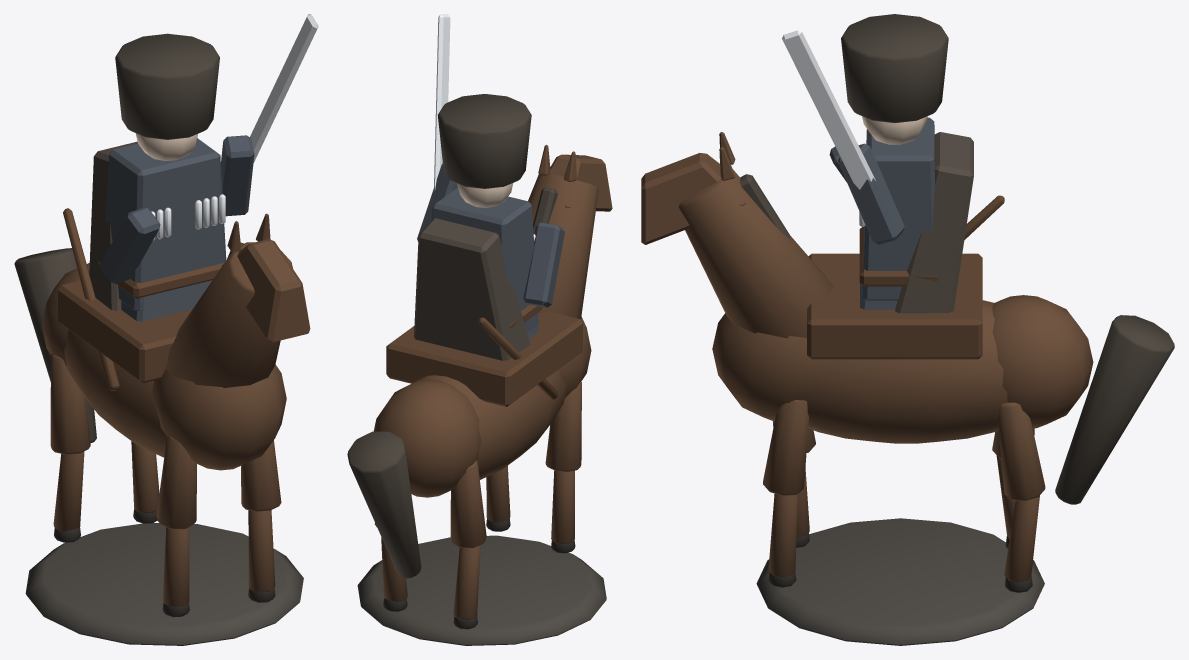
File: Cavalry_Naib.glb
3 views of the same model, side by side, from view 1: azimuth 30°, elevation 25°; view 2: azimuth 150°, elevation 25°; view 3: azimuth 270°, elevation 25° (orthographic). The views are drawn at different scales.
Visible parts, largest first — view 1: Pedestal, RiderTorso, HorseChest, RiderPapakha, HorseNeck, SaddleCloth, HorseBarrel, HorseHead, HorseTail, LegU_BL, LegU_FL, BurkaCape (+13 smaller); view 2: Pedestal, BurkaCape, SaddleCloth, HorseCroup, RiderPapakha, HorseTail, HorseBarrel, HorseNeck, RiderTorso, LegU_BL, ArmLeft, LegU_FL (+11 smaller); view 3: Pedestal, HorseBarrel, HorseNeck, SaddleCloth, RiderPapakha, HorseCroup, HorseTail, BurkaCape, HorseChest, RiderTorso, HorseHead, ShashkaBlade (+8 smaller).
Part boxes in pixels (x1,y1,x2,y2): Pedestal: (25,523,303,645); RiderTorso: (105,138,226,311); HorseChest: (152,364,286,470); RiderPapakha: (115,33,219,139); HorseNeck: (165,242,292,387); SaddleCloth: (58,280,191,383); HorseBarrel: (64,329,166,457); HorseHead: (220,239,310,342); HorseTail: (14,248,96,442); LegU_BL: (50,353,90,454); LegU_FL: (156,436,196,529); BurkaCape: (89,141,137,310); Pedestal: (357,535,606,645); BurkaCape: (414,218,530,360); SaddleCloth: (386,311,582,406); HorseCroup: (373,379,481,497); RiderPapakha: (437,94,531,188); HorseTail: (347,431,421,578); HorseBarrel: (412,370,566,479); HorseNeck: (528,173,598,318); RiderTorso: (431,187,538,331); LegU_BL: (450,460,486,548); ArmLeft: (523,222,564,307); LegU_FL: (545,381,581,471); Pedestal: (756,518,1044,645); HorseBarrel: (807,300,1007,443); HorseNeck: (678,169,833,338); SaddleCloth: (807,253,982,359); RiderPapakha: (841,14,948,122); HorseCroup: (992,295,1093,428); HorseTail: (1055,315,1174,504); BurkaCape: (895,132,973,313); HorseChest: (712,313,829,421); RiderTorso: (862,117,934,300); HorseHead: (641,153,745,244); ShashkaBlade: (782,30,875,189).
Bounding box in the file's own units: 0.9845 × 2.27 × 1.82.
